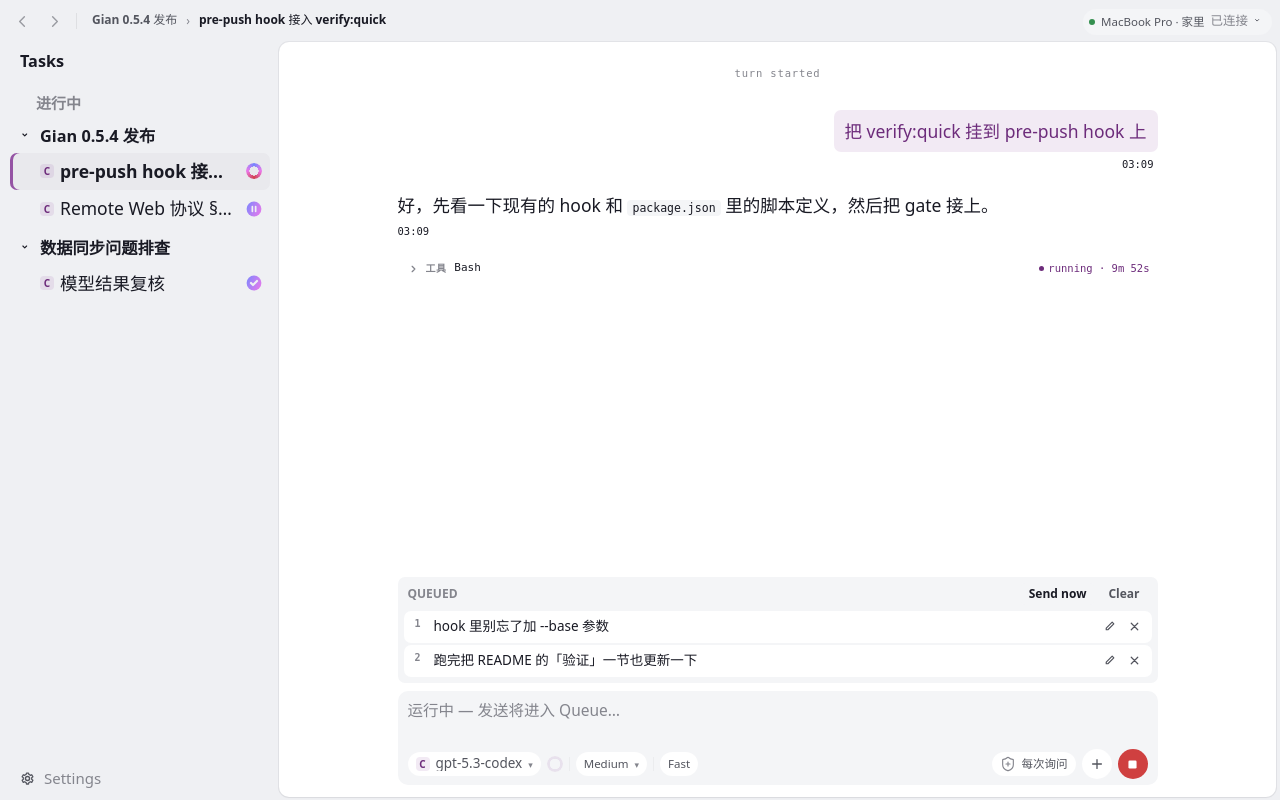
it: chat + composer (B5) › denied session.send disables Send even with text
Step 1. Type "hello" into the text box → (778, 722), box [408,698,1148,745]
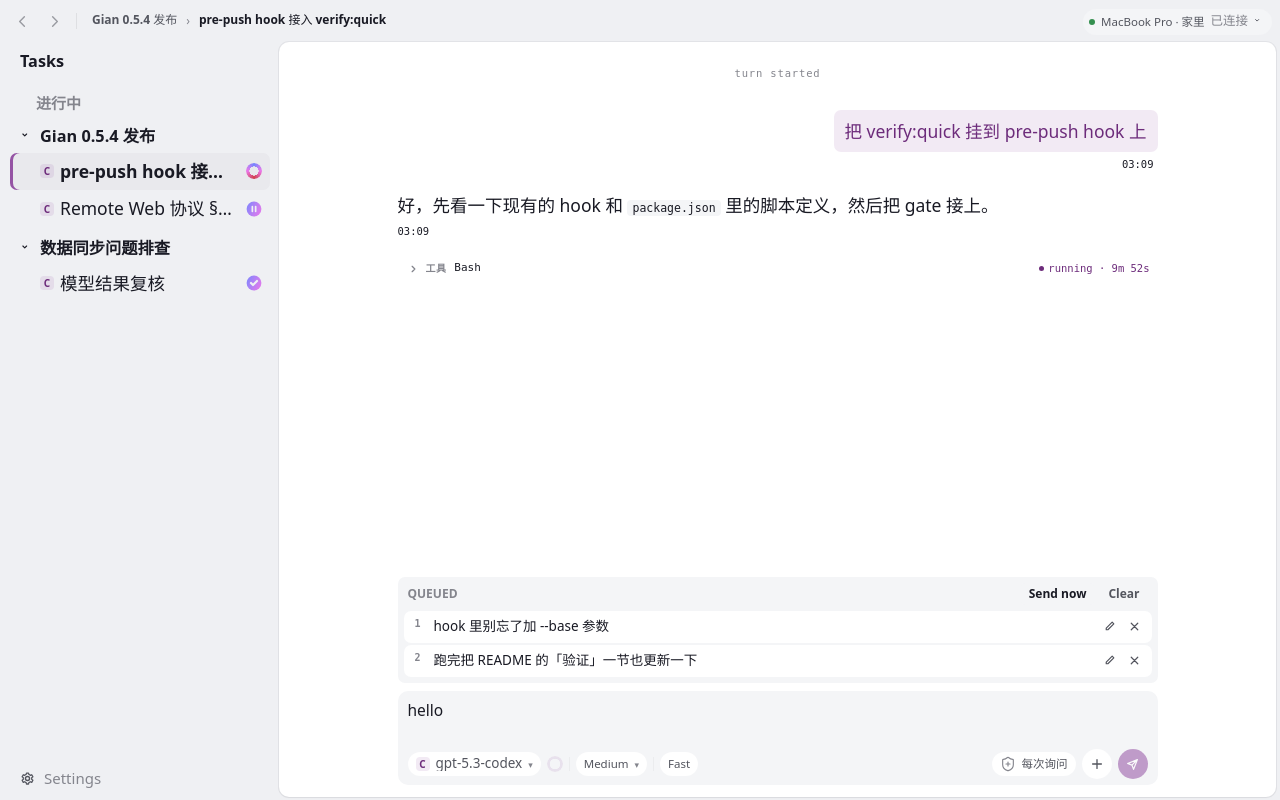
Expected: the button named "发送" is disabled, [1118,749,1148,779]
